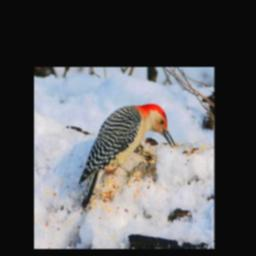Woodpecker: (76, 102, 176, 214)
